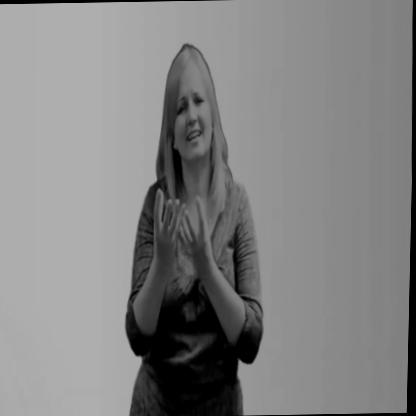ThankYou: (126, 24, 211, 273)
